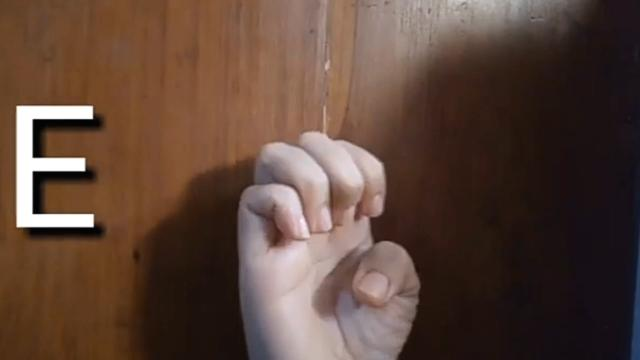E: (229, 127, 421, 360)
